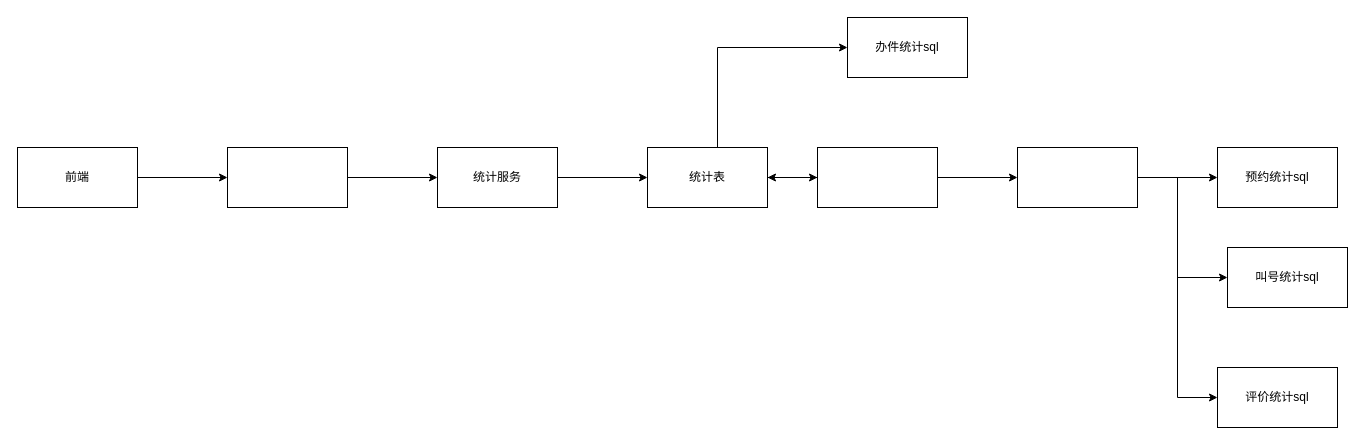
Some shapes in this 1365 by 445 pixel diagram are drawn without their labels. The shapes that lost their labels are listed below. From the top down, each one's centre as x and y in pixels, then its label:
At (287,177): "综窗接口".
At (877,177): "定时任务".
At (1077,177): "数据源".
